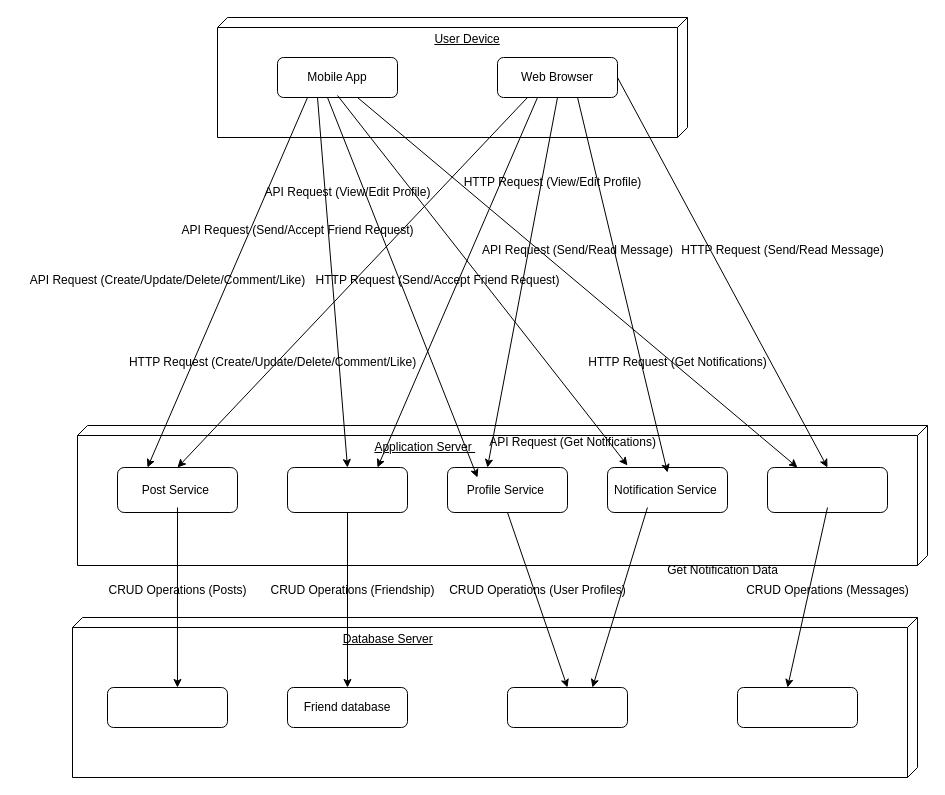
Image size: 945x795. Some labels were removed from this diagram. The centre of each missing label's shape, as x and y in pixels:
Friend Request Service: point 347,489
Message Database: point 797,707
Messaging Service: point 827,489
Post Database: point 167,707
User Database: point 567,707
